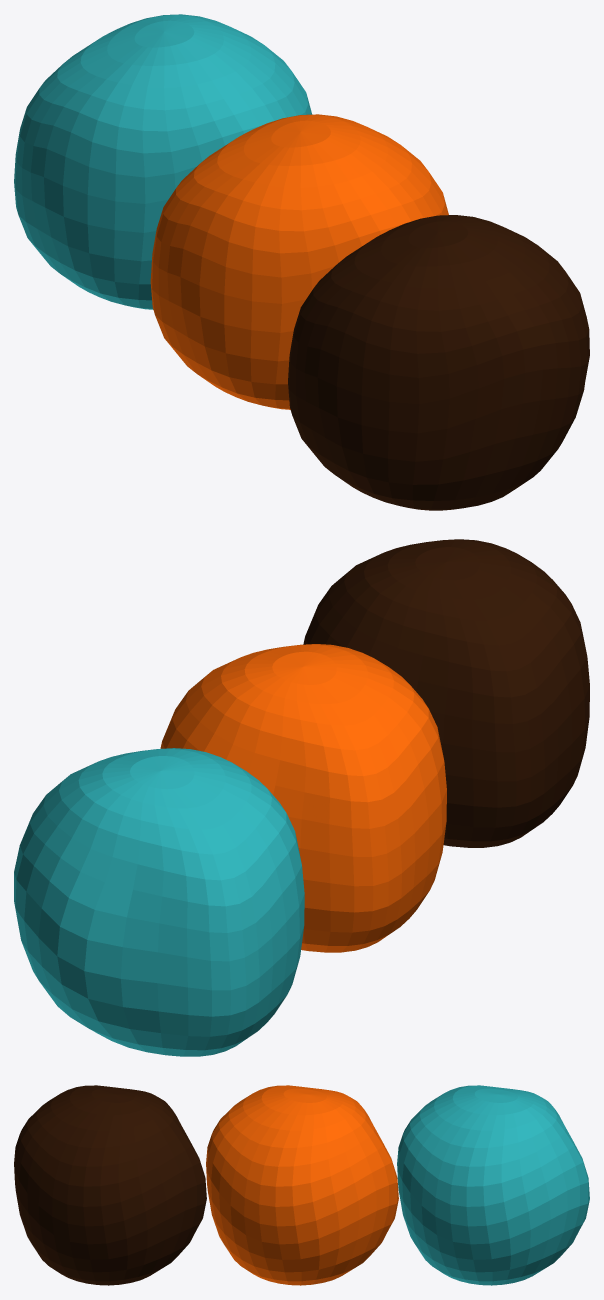
File: meteors.fbx
3 views of the same model, one above another, from view 1: azimuth 30°, elevation 25°; view 2: azimuth 150°, elevation 25°; view 3: azimuth 270°, elevation 25° (orthographic). The views are drawn at different scales.
Parts seen in each view (by area): view 1: Sphere.002, Sphere, Sphere.001; view 2: Sphere.001, Sphere.002, Sphere; view 3: Sphere.001, Sphere.002, Sphere.
Boxes of the visible parts, left/top/right/bottom form: Sphere.002: left=288, top=215, right=589, bottom=510; Sphere: left=150, top=114, right=448, bottom=409; Sphere.001: left=14, top=14, right=312, bottom=309; Sphere.001: left=14, top=748, right=304, bottom=1056; Sphere.002: left=303, top=539, right=589, bottom=847; Sphere: left=160, top=644, right=446, bottom=952; Sphere.001: left=397, top=1085, right=589, bottom=1285; Sphere.002: left=14, top=1085, right=206, bottom=1285; Sphere: left=206, top=1085, right=398, bottom=1285.
Size of the model in its own units: 198 by 193 by 560.
